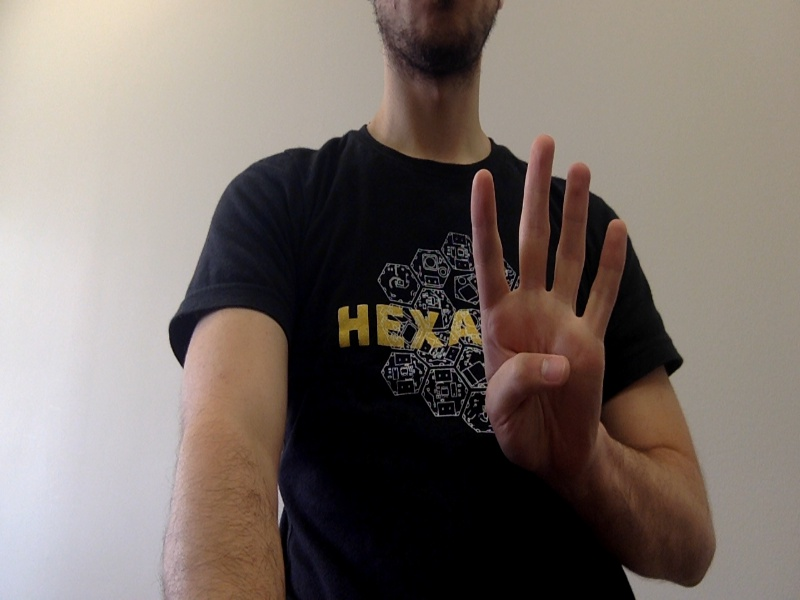4-hand: (474, 137, 625, 459)
